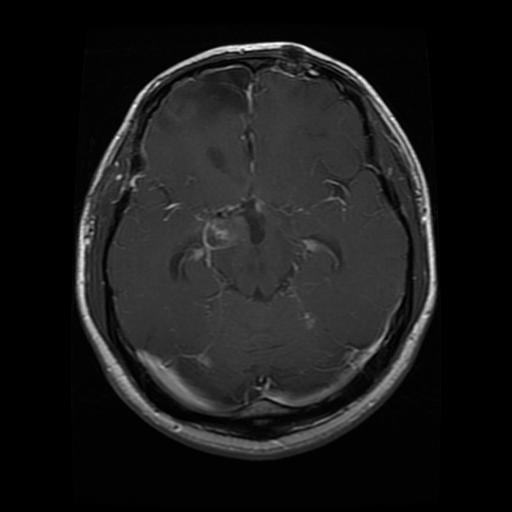Gliomia_tumour: (153, 66, 248, 130)
